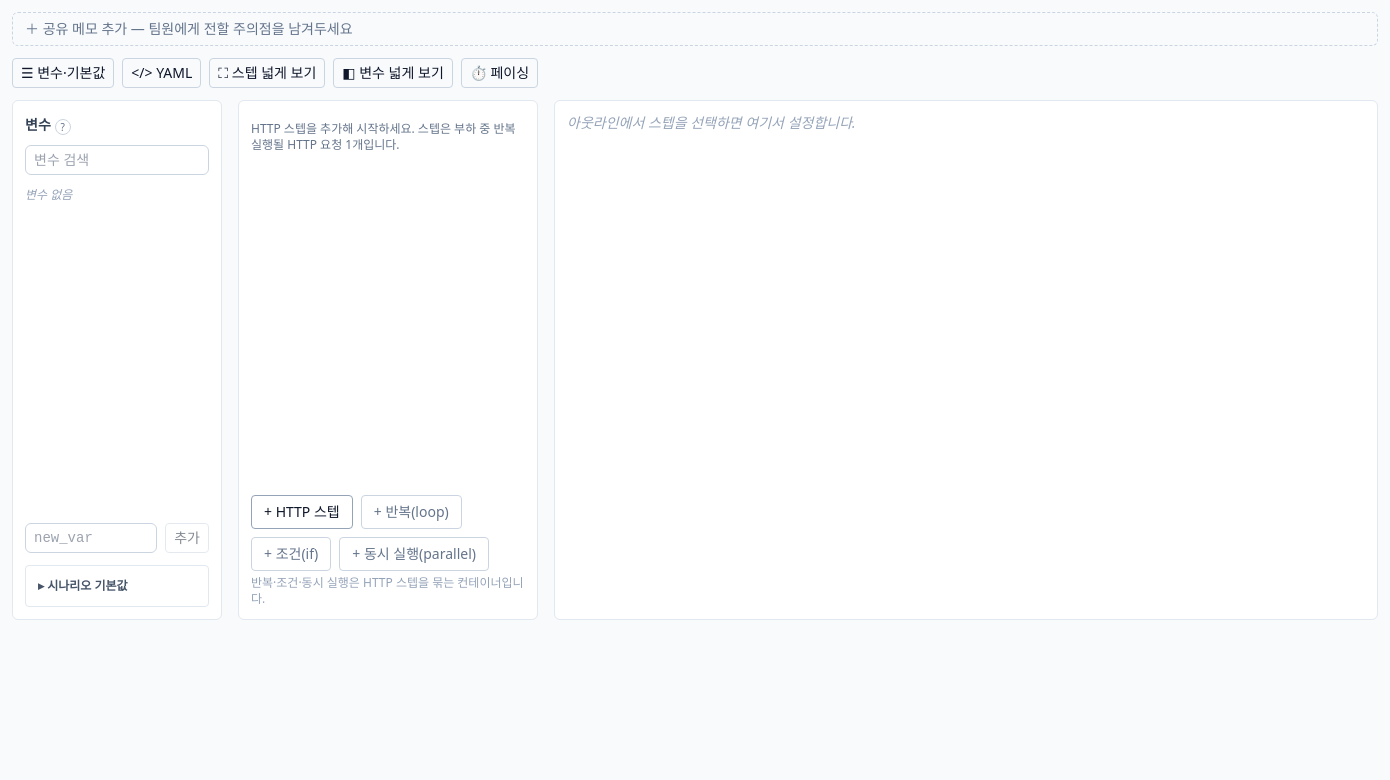
EditorShell › 왼쪽 패널이 변수와 시나리오 기본값을 함께 담고, 토글로 함께 접힌다 (R17)
The image size is (1390, 780).
Check: the heading "변수" is shown, box [25,115,51,135]
Check: the button "▸ 시나리오 기본값" is shown, box [38,578,128,594]
Click the button with aria-label "변수·기본값 패널 접기/펼치기" at (63, 73), box [12,58,114,88]
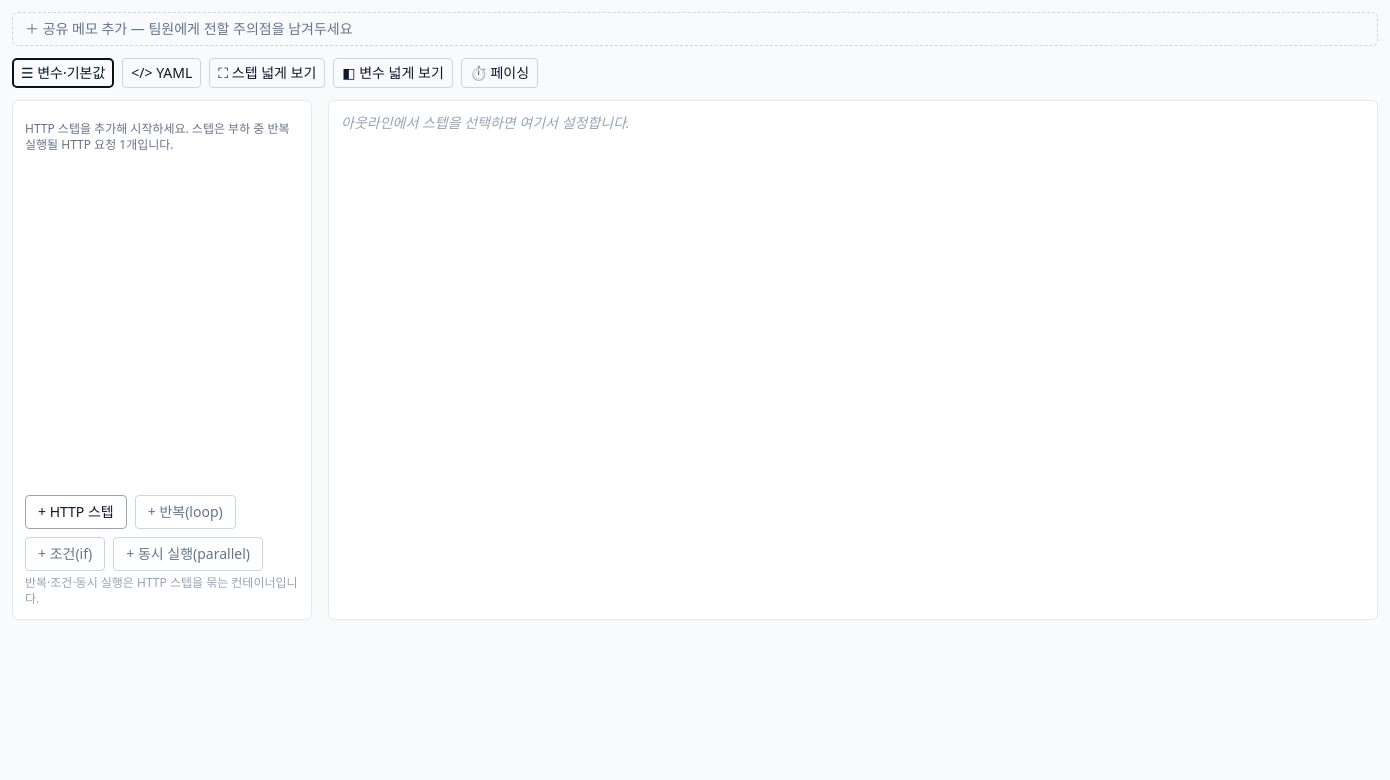
Check: the button "시나리오 기본값" is gone
